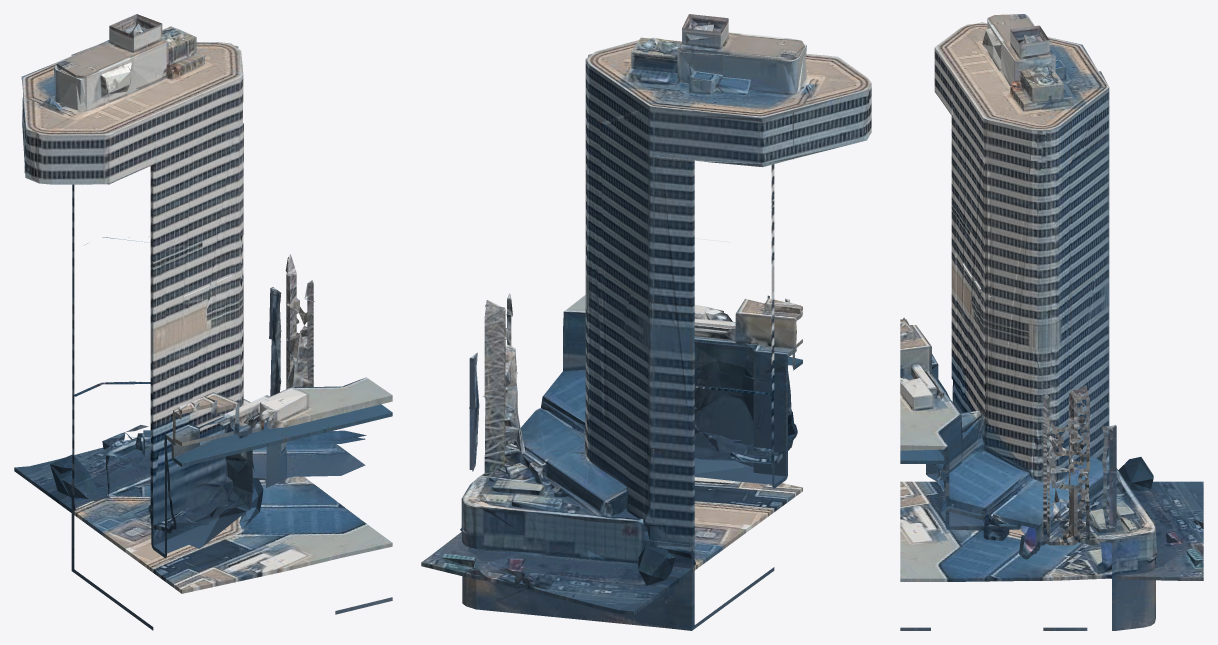
The model's file is chunk_-3_0.glb.
The picture shows the model from 3 angles, left to right: view 1: azimuth 30°, elevation 25°; view 2: azimuth 150°, elevation 25°; view 3: azimuth 270°, elevation 25°; orthographic projection. The views are drawn at different scales.
Parts seen in each view (by area): view 1: hero-chunk; view 2: hero-chunk; view 3: hero-chunk.
Part boxes in pixels (box(x1,y1,x2,y2)): hero-chunk: box(14, 14, 392, 630); hero-chunk: box(421, 14, 871, 630); hero-chunk: box(900, 14, 1203, 630).
Bounding box in the file's own units: 85.26 × 143 × 76.32.
5 materials, 5 textured.
